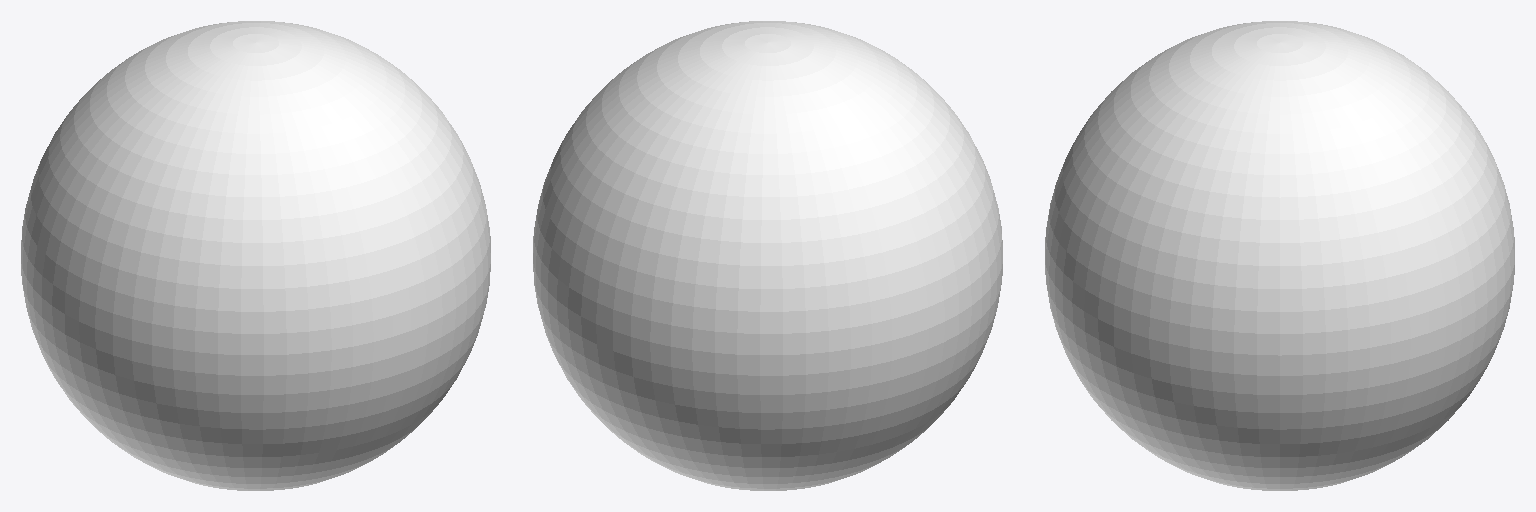
File: sun.obj
The picture shows the model from 3 angles: view 1: azimuth 30°, elevation 25°; view 2: azimuth 150°, elevation 25°; view 3: azimuth 270°, elevation 25°; orthographic projection.
Visible parts, largest first — view 1: Object.2; view 2: Object.2; view 3: Object.2.
Part boxes in pixels (x1,y1,x2,y2): Object.2: (21,21,490,490); Object.2: (533,21,1002,490); Object.2: (1045,21,1514,490).
Size of the model in its own units: 20.2 by 20.2 by 20.2.